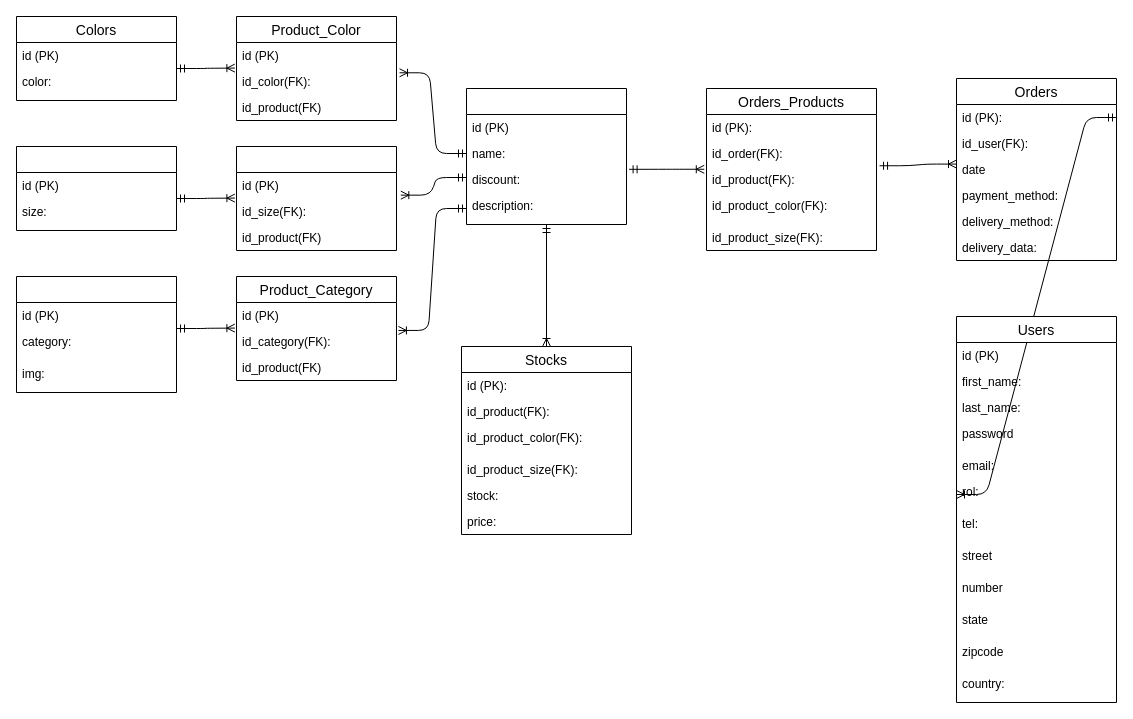
This 1133x719 diagram has some shape labels left out. Each missing label, with the box of its shape:
Categories: (16, 276, 176, 392)
Product_Size: (236, 146, 396, 250)
Products: (466, 88, 626, 224)
Sizes: (16, 146, 176, 230)
